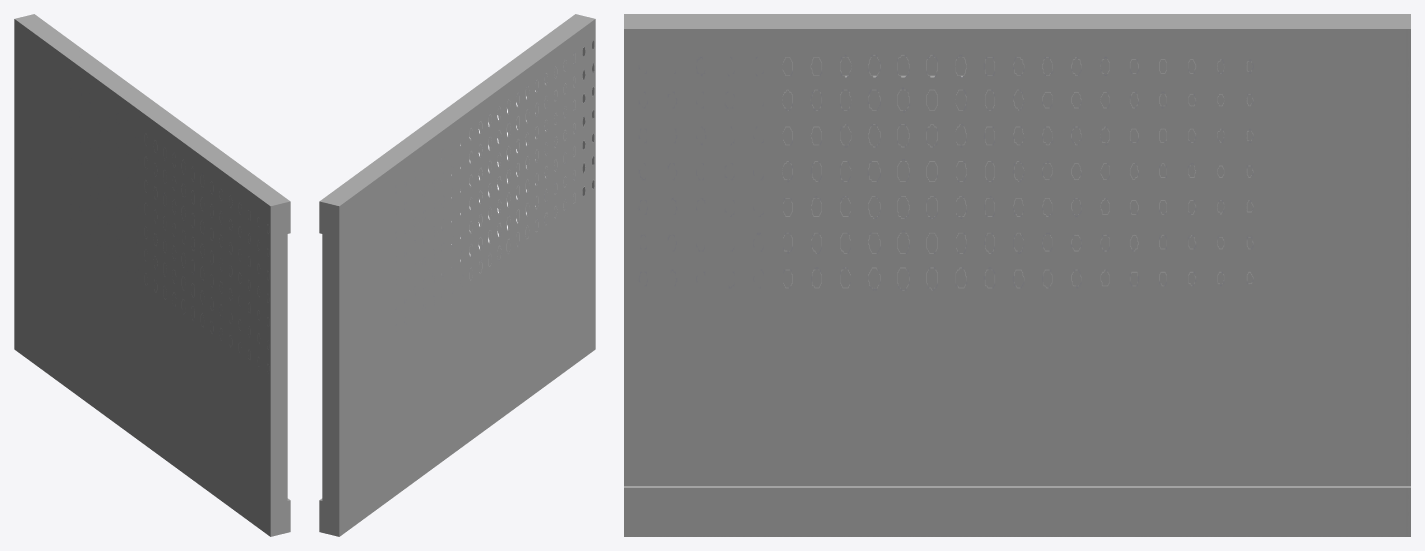
File: original-17.obj
3 renders of one model, left to right at view 1: azimuth 30°, elevation 25°; view 2: azimuth 150°, elevation 25°; view 3: azimuth 270°, elevation 25°, orthographic. The views are drawn at different scales.
Parts seen in each view (by area): view 1: Group_704_1/Group_704/mesh22/mesh22-geometry#mesh22-geometry; view 2: Group_704_1/Group_704/mesh22/mesh22-geometry#mesh22-geometry; view 3: Group_704_1/Group_704/mesh22/mesh22-geometry#mesh22-geometry.
Boxes of the visible parts, x1,y1,x2,y2 form: Group_704_1/Group_704/mesh22/mesh22-geometry#mesh22-geometry: (14,14,290,536); Group_704_1/Group_704/mesh22/mesh22-geometry#mesh22-geometry: (319,14,595,536); Group_704_1/Group_704/mesh22/mesh22-geometry#mesh22-geometry: (624,14,1410,536).
Size of the model in its own units: 0.0353 by 0.5578 by 0.783.
